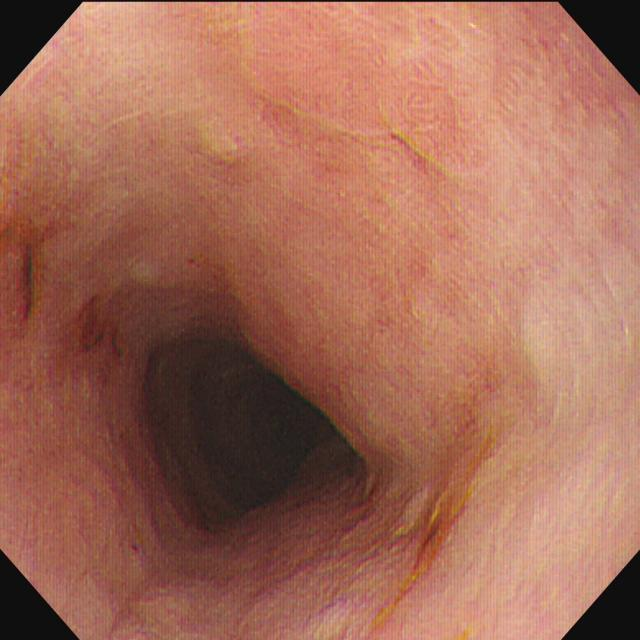E: (127, 300, 382, 561)
J: (388, 488, 472, 596), (77, 304, 125, 362), (14, 243, 44, 330)
